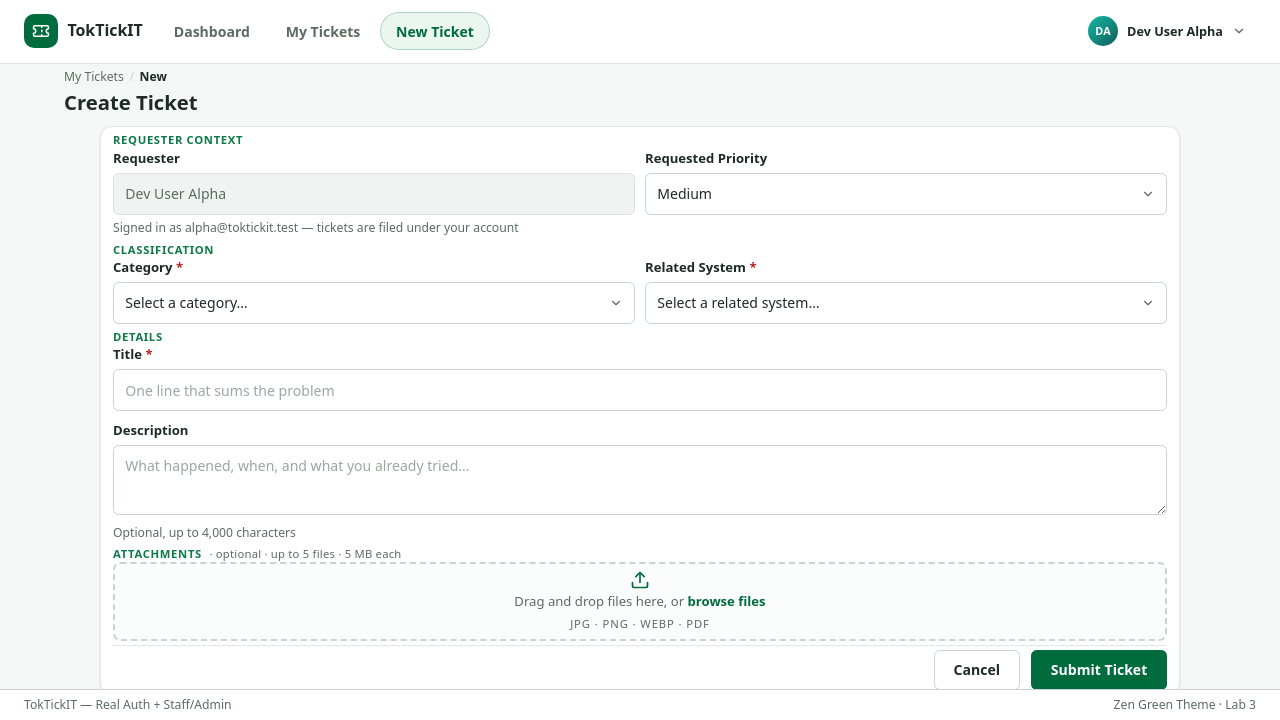
Test: UI-12 Related system select › selection sends correct relatedSystemId in create payload
Expected: the dropdown labelled "Related System *" is shown, [645,282,1167,324]
Type "Printer jam in office" into the field labelled "Title *" at {"x": 640, "y": 390}, box [113,369,1167,411]
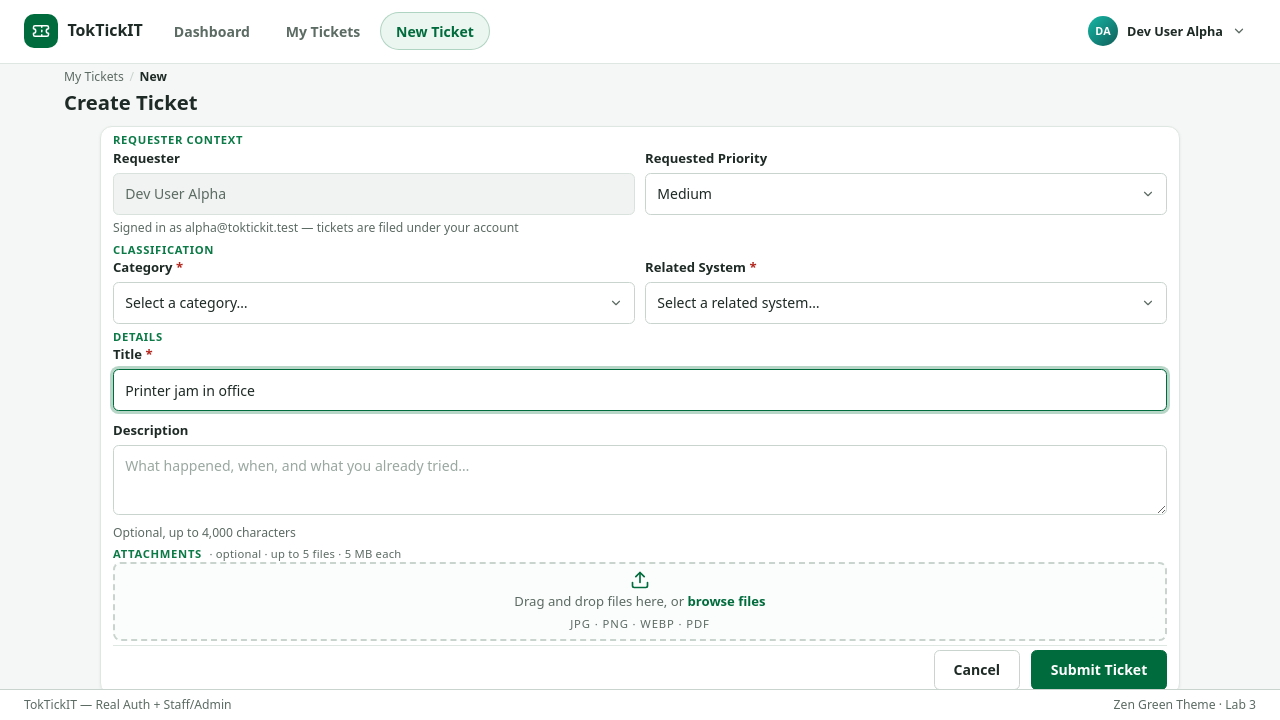
Select "Account and Access" in the dropdown labelled "Category *" at {"x": 374, "y": 303}, box [113,282,635,324]
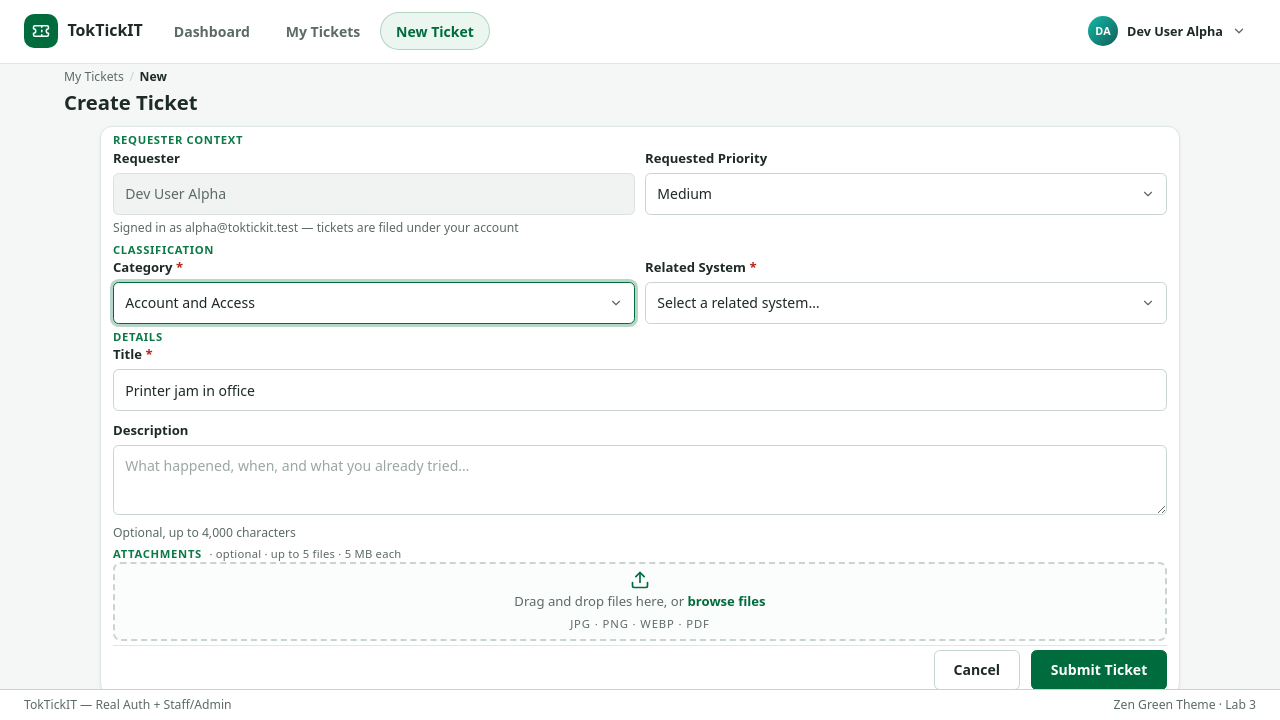
Select "Printer" in the dropdown labelled "Related System *" at {"x": 906, "y": 303}, box [645,282,1167,324]
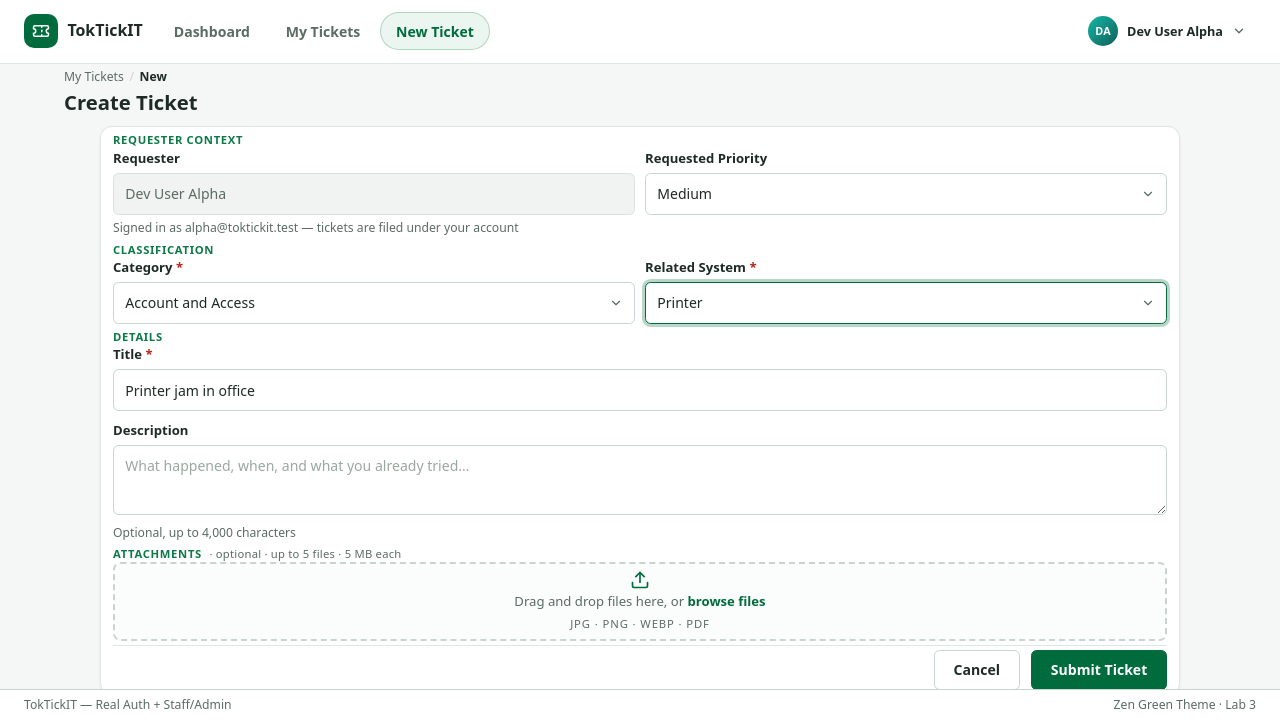
Click the button "Submit Ticket" at {"x": 1099, "y": 670}, box [1031,650,1167,690]
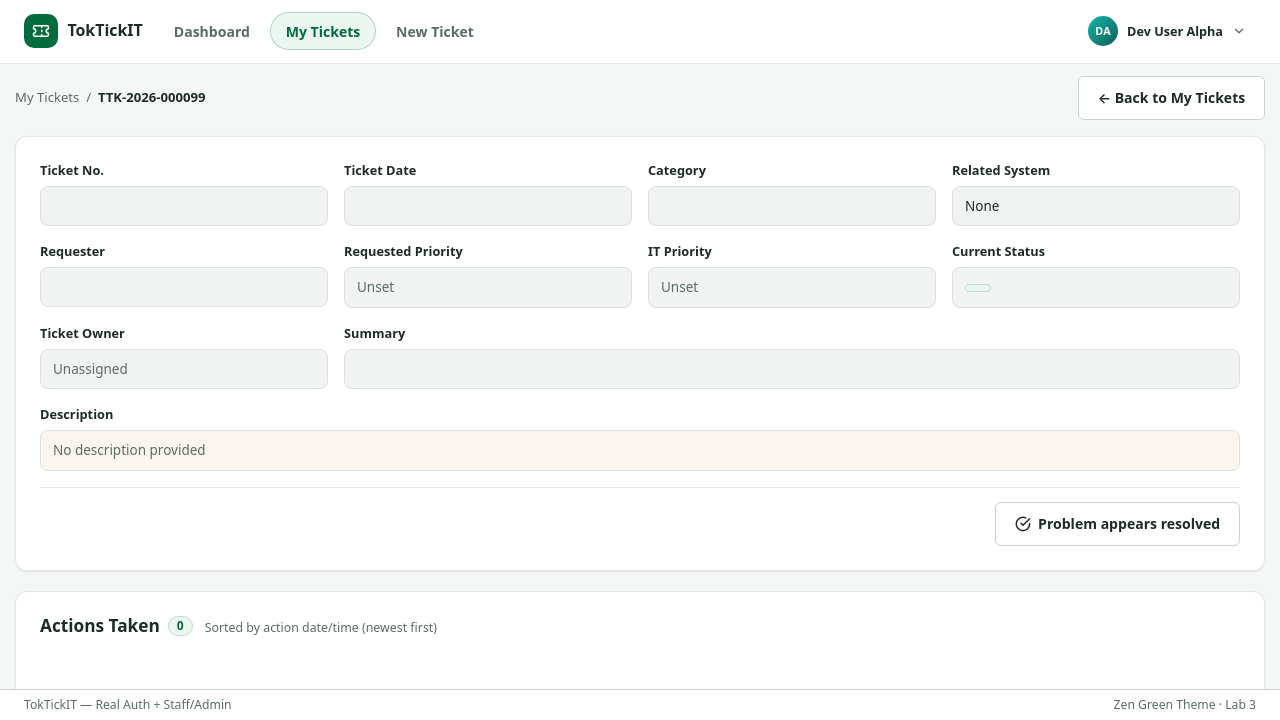
Expected: the text "TTK-2026-000099" is shown, [98,88,206,106]
